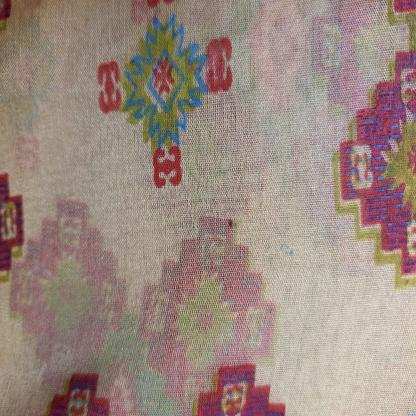spot: (227, 216, 237, 232)
